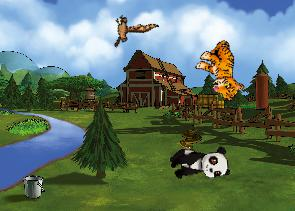eagle: (101, 0, 159, 58)
panda: (168, 145, 230, 182)
tiger: (188, 35, 258, 104)
